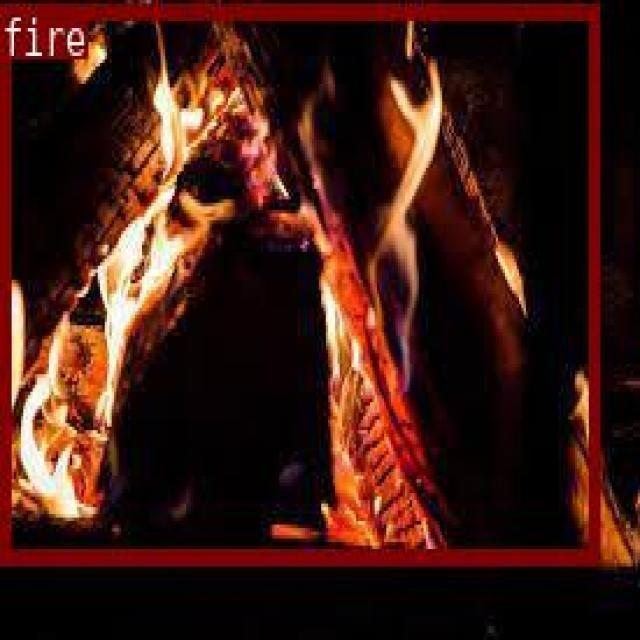fire: (0, 4, 596, 560)
